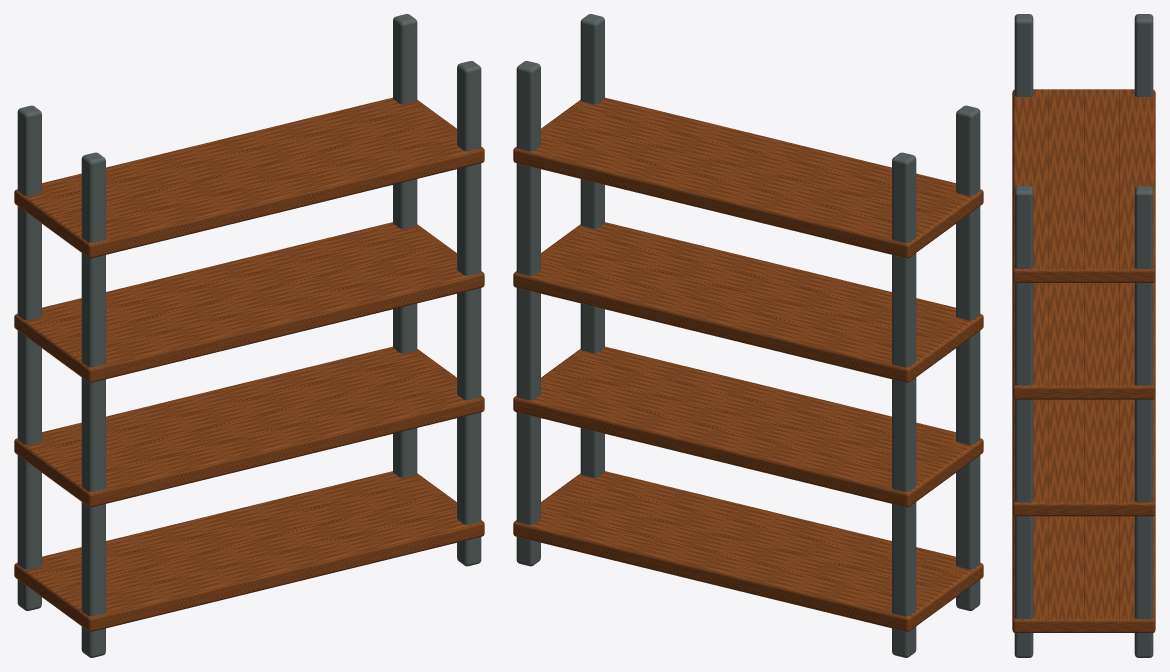
File: ceramics-pottery-studio-drying-rack-48e0bb7b__29490.glb
3 renders of one model, left to right at view 1: azimuth 30°, elevation 25°; view 2: azimuth 150°, elevation 25°; view 3: azimuth 270°, elevation 25°, orthographic. The views are drawn at different scales.
Visible parts, largest first — view 1: drying-rack; view 2: drying-rack; view 3: drying-rack.
Boxes of the visible parts, x1=… form: drying-rack: x1=14, y1=14, x2=484, y2=657; drying-rack: x1=513, y1=14, x2=983, y2=657; drying-rack: x1=1012, y1=14, x2=1155, y2=657.
Size of the model in its own units: 1.5 by 1.8 by 0.4999.
Materials: 2 (1 with a texture image).
